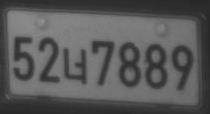2: (36, 36, 60, 84)
5: (12, 35, 34, 81)
7: (90, 38, 114, 86)
8: (118, 41, 142, 88), (144, 43, 168, 90)
9: (171, 44, 194, 91)
너: (62, 47, 87, 85)
